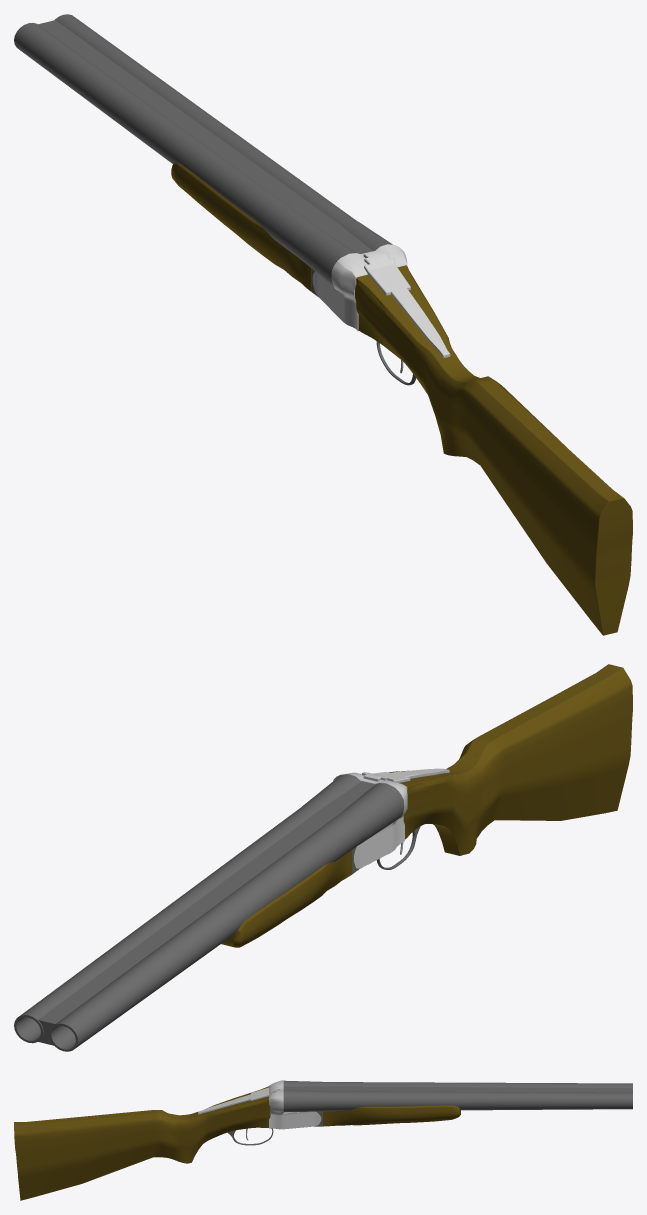
The model's file is Shotgun.fbx.
3 renders of one model, top to bottom at view 1: azimuth 30°, elevation 25°; view 2: azimuth 150°, elevation 25°; view 3: azimuth 270°, elevation 25°, orthographic. The views are drawn at different scales.
Parts seen in each view (by area): view 1: polySurface1, group3, pCube3; view 2: group3, polySurface1, pCube3; view 3: polySurface1, group3, pCube3.
Boxes of the visible parts, x1,y1,x2,y2 form: polySurface1: (312, 244, 632, 635); group3: (14, 14, 392, 296); pCube3: (171, 162, 311, 291); group3: (14, 774, 403, 1051); polySurface1: (333, 664, 632, 868); pCube3: (221, 850, 352, 947); polySurface1: (14, 1080, 321, 1200); group3: (283, 1080, 632, 1126); pCube3: (323, 1105, 460, 1126).
Size of the model in its own units: 1.05 by 2.82 by 14.04.
